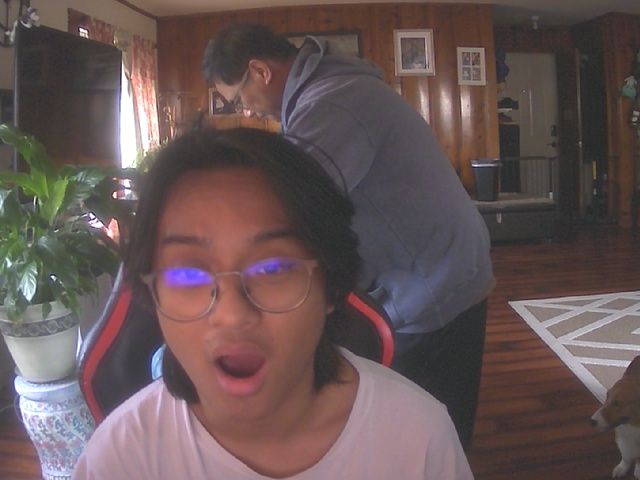fear: (140, 143, 354, 425)
